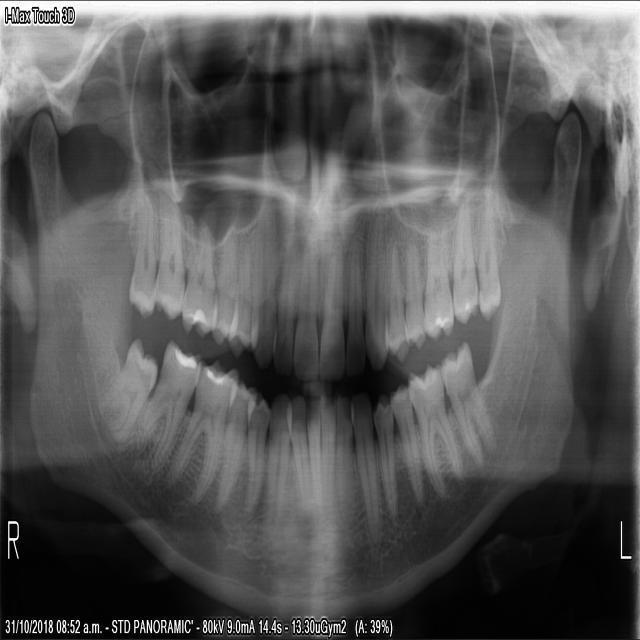LCD: (352, 393, 380, 539)
LCU: (366, 205, 390, 374)
LID: (335, 395, 355, 520), (319, 393, 339, 517)
LIU: (319, 219, 345, 378), (346, 227, 368, 375)
LMD: (408, 359, 466, 504), (442, 345, 496, 472)
LMU: (424, 210, 456, 340), (451, 193, 481, 327), (476, 194, 504, 317)
LPMD: (388, 384, 424, 510), (373, 399, 400, 519)
LPMU: (386, 213, 410, 364), (404, 225, 428, 352)
RCD: (266, 389, 290, 534)
RCU: (251, 183, 278, 365)
RID: (289, 397, 313, 513), (306, 400, 324, 507)
RIU: (270, 199, 299, 378), (293, 207, 318, 379)
RMD: (124, 338, 201, 478), (166, 359, 238, 498), (97, 340, 158, 448)
RMU: (153, 188, 187, 325), (179, 214, 216, 338), (127, 187, 156, 320)
RPMD: (213, 379, 256, 513), (244, 390, 270, 519)
RPMU: (212, 215, 237, 350), (229, 212, 251, 357)
